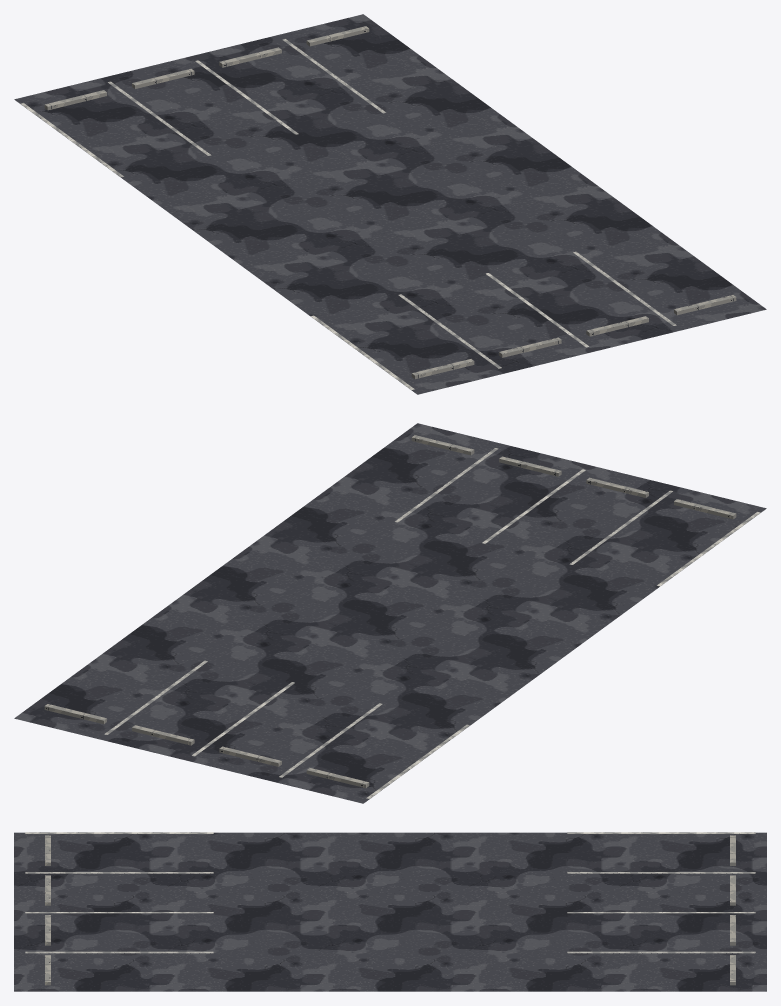
File: RD_ParkingLot_10x20m.obj
The picture shows the model from 3 angles, top to bottom: view 1: azimuth 30°, elevation 25°; view 2: azimuth 150°, elevation 25°; view 3: azimuth 270°, elevation 25°; orthographic projection. The views are drawn at different scales.
Parts seen in each view (by area): view 1: RD_ParkingLot_10x20m_Mesh_M_Road_ParkingLotAsphalt, RD_ParkingLot_10x20m_Mesh_M_Road_CurbConcrete, RD_ParkingLot_10x20m_Mesh_M_Road_MarkingWhite; view 2: RD_ParkingLot_10x20m_Mesh_M_Road_ParkingLotAsphalt, RD_ParkingLot_10x20m_Mesh_M_Road_CurbConcrete, RD_ParkingLot_10x20m_Mesh_M_Road_MarkingWhite; view 3: RD_ParkingLot_10x20m_Mesh_M_Road_ParkingLotAsphalt, RD_ParkingLot_10x20m_Mesh_M_Road_MarkingWhite, RD_ParkingLot_10x20m_Mesh_M_Road_CurbConcrete.
Part boxes in pixels (x1,y1,x2,y2): RD_ParkingLot_10x20m_Mesh_M_Road_ParkingLotAsphalt: [14, 14, 766, 394]; RD_ParkingLot_10x20m_Mesh_M_Road_CurbConcrete: [44, 26, 736, 379]; RD_ParkingLot_10x20m_Mesh_M_Road_MarkingWhite: [20, 39, 676, 389]; RD_ParkingLot_10x20m_Mesh_M_Road_ParkingLotAsphalt: [14, 423, 766, 803]; RD_ParkingLot_10x20m_Mesh_M_Road_CurbConcrete: [44, 435, 736, 788]; RD_ParkingLot_10x20m_Mesh_M_Road_MarkingWhite: [104, 448, 760, 798]; RD_ParkingLot_10x20m_Mesh_M_Road_ParkingLotAsphalt: [14, 832, 766, 991]; RD_ParkingLot_10x20m_Mesh_M_Road_MarkingWhite: [25, 832, 755, 953]; RD_ParkingLot_10x20m_Mesh_M_Road_CurbConcrete: [45, 835, 735, 985].
Bounding box in the file's own units: 10 × 0.1 × 20.
Materials: 3 (3 with a texture image).
